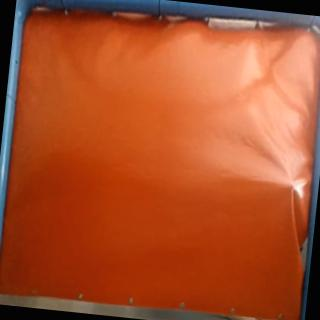Hit-hRxx: (285, 178, 302, 194)
